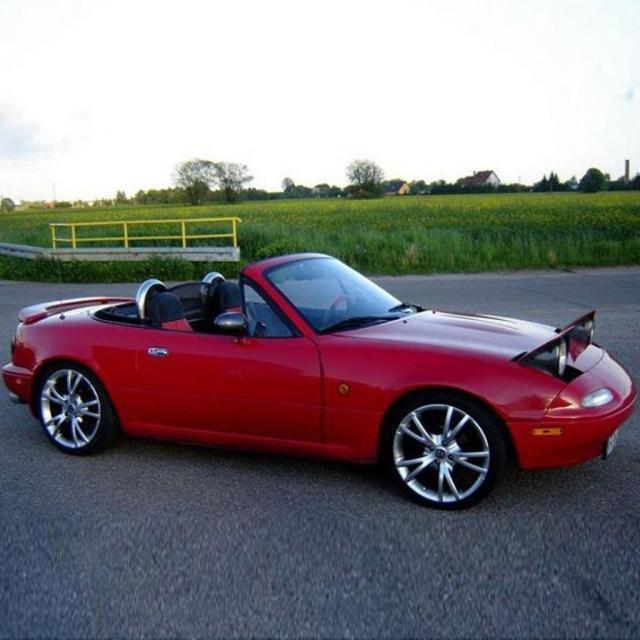car: (0, 244, 638, 506)
